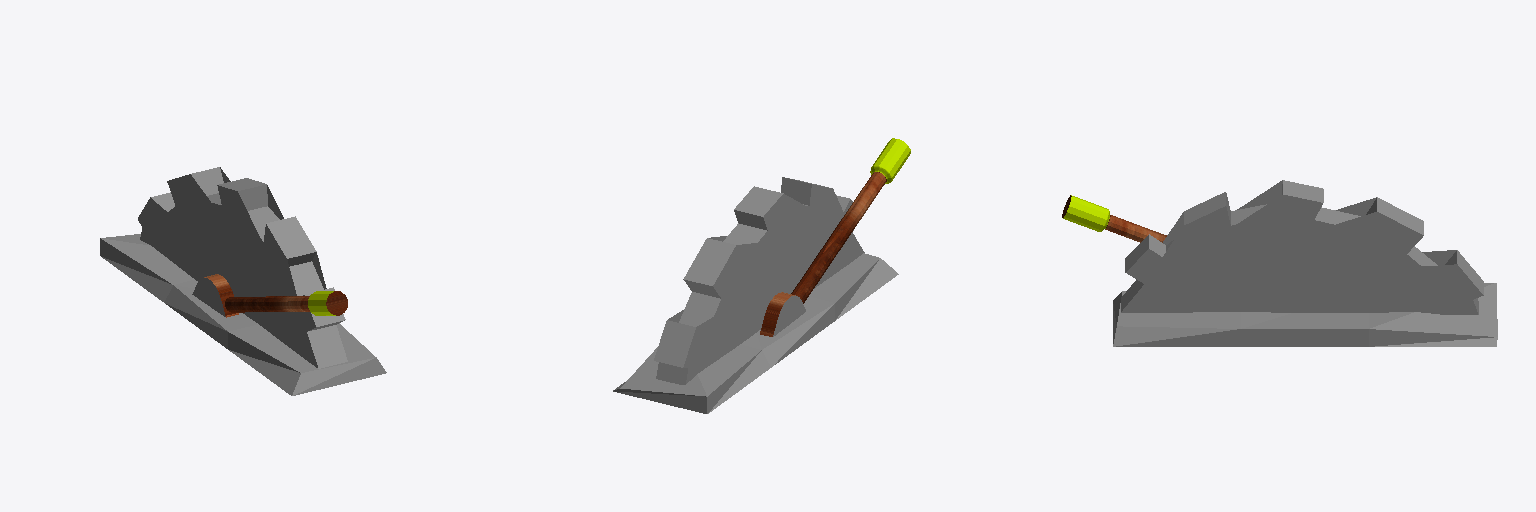
The picture shows the model from 3 angles: view 1: azimuth 30°, elevation 25°; view 2: azimuth 150°, elevation 25°; view 3: azimuth 270°, elevation 25°; orthographic projection.
Visible parts, largest first — view 1: Line024, base006, Loft017, NGon009; view 2: Line024, base006, Loft017, NGon009; view 3: Line024, base006, Loft017.
Part boxes in pixels (bbox=[...]): Line024: bbox=[138, 167, 347, 368]; base006: bbox=[100, 234, 386, 395]; Loft017: bbox=[225, 291, 347, 315]; NGon009: bbox=[192, 274, 238, 317]; Line024: bbox=[654, 177, 864, 384]; base006: bbox=[613, 253, 898, 413]; Loft017: bbox=[791, 138, 910, 303]; NGon009: bbox=[760, 292, 805, 336]; Line024: bbox=[1121, 180, 1483, 314]; base006: bbox=[1113, 283, 1497, 346]; Loft017: bbox=[1062, 195, 1166, 242].
Size of the model in its own units: 12.9 by 17.53 by 51.15.
4 materials, 1 textured.